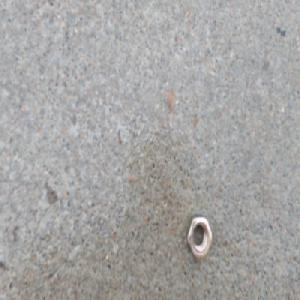Nut: (185, 216, 213, 264)
